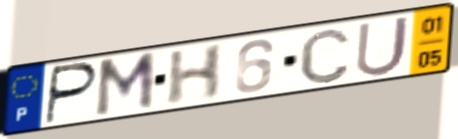6: (233, 37, 276, 95)
C: (297, 25, 353, 86)
H: (164, 41, 227, 108)
M: (92, 49, 158, 121)
P: (41, 60, 101, 127)
U: (353, 13, 413, 79)
